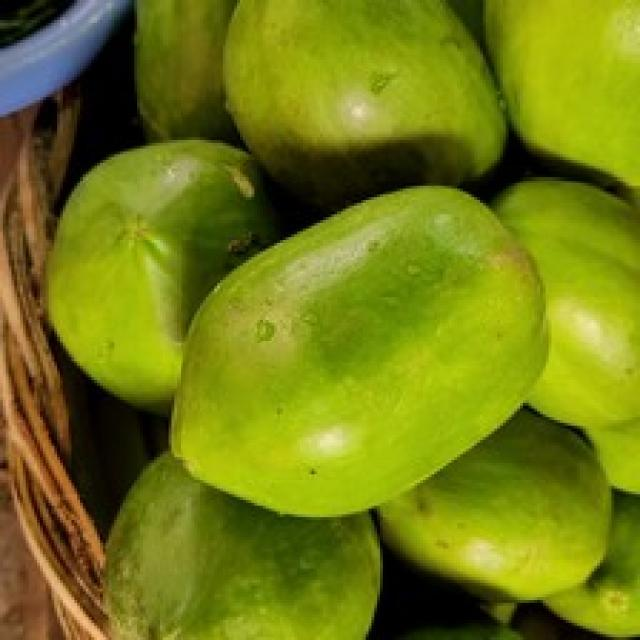Pepaya unrippen: (160, 190, 559, 531)
